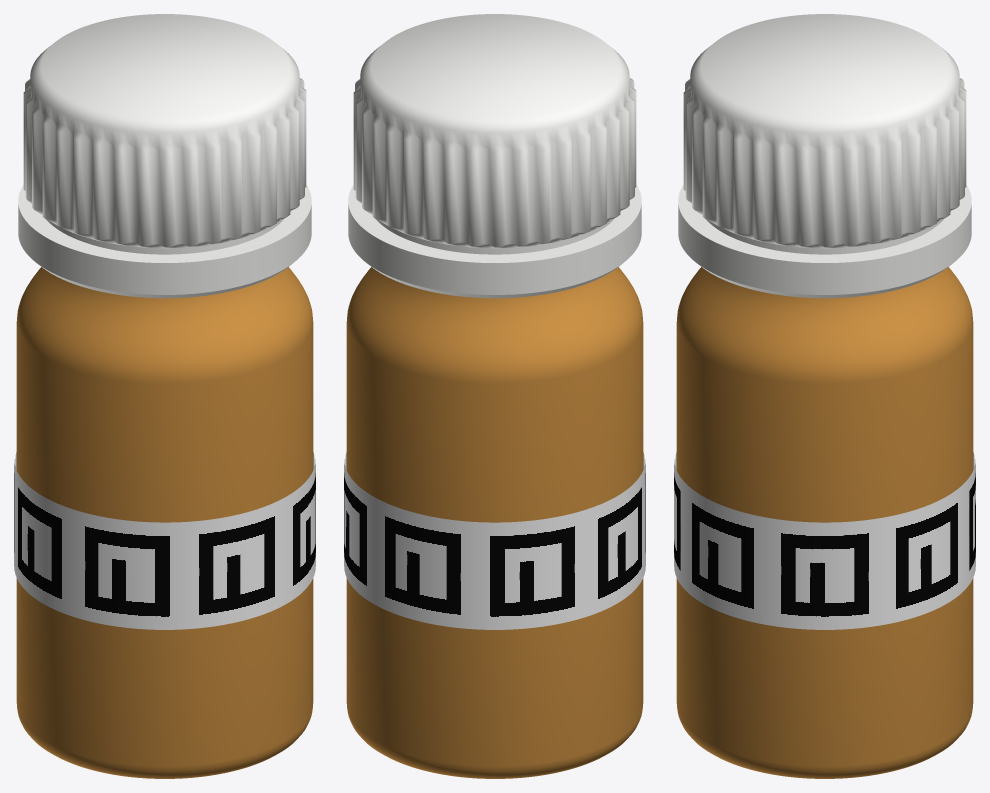
Rendered from SMP-0086_2002000819666.glb.
3 renders of one model, left to right at view 1: azimuth 30°, elevation 25°; view 2: azimuth 150°, elevation 25°; view 3: azimuth 270°, elevation 25°, orthographic.
Visible parts, largest first — view 1: Bottle_010ml, Cap_010ml_PP18, Label_SMP-0086; view 2: Bottle_010ml, Cap_010ml_PP18, Label_SMP-0086; view 3: Bottle_010ml, Cap_010ml_PP18, Label_SMP-0086.
Boxes of the visible parts, <box> form: Bottle_010ml: <box>16,267,313,778</box>; Cap_010ml_PP18: <box>18,14,311,298</box>; Label_SMP-0086: <box>14,452,315,629</box>; Bottle_010ml: <box>346,267,643,778</box>; Cap_010ml_PP18: <box>348,14,641,298</box>; Label_SMP-0086: <box>344,452,645,629</box>; Bottle_010ml: <box>676,267,973,778</box>; Cap_010ml_PP18: <box>678,14,971,298</box>; Label_SMP-0086: <box>674,452,975,629</box>.
Bounding box in the file's own units: 0.0224 × 0.0539 × 0.0224.
Materials: 4 (1 with a texture image).
